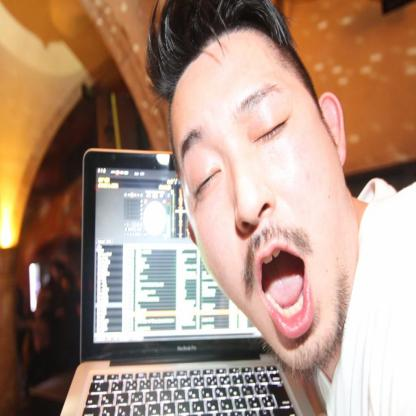board: (71, 127, 297, 416)
